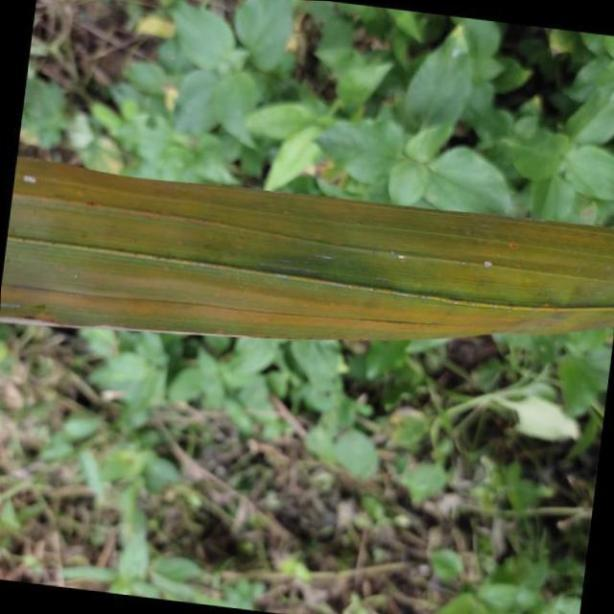Megnesium: (1, 156, 614, 340)
